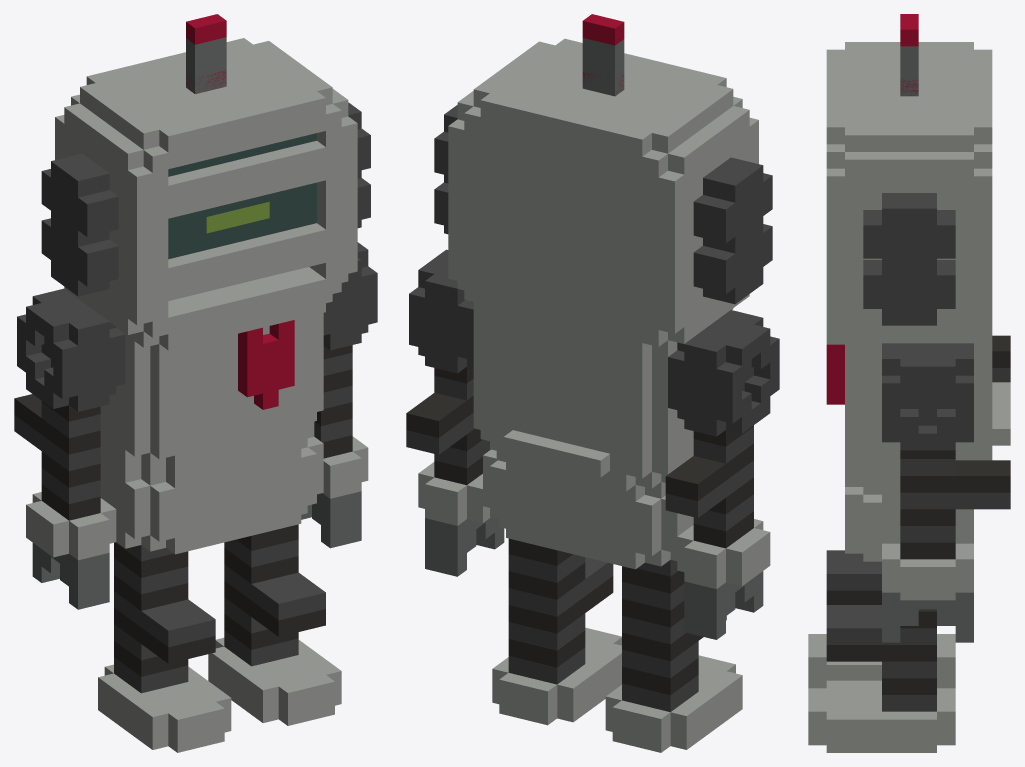
The model's file is player_main_idle.fbx.
The picture shows the model from 3 angles, left to right: view 1: azimuth 30°, elevation 25°; view 2: azimuth 150°, elevation 25°; view 3: azimuth 270°, elevation 25°; orthographic projection. The views are drawn at different scales.
Visible parts, largest first — view 1: model_2, model_4, model_5, model_0; view 2: model_2, model_5, model_4; view 3: model_2, model_5, model_4.
Part boxes in pixels (box(x1,y1,x2,y2)): model_2: box(17, 14, 377, 752); model_4: box(17, 15, 377, 720); model_5: box(14, 70, 370, 663); model_0: box(168, 133, 316, 259); model_2: box(409, 14, 779, 752); model_5: box(406, 72, 772, 640); model_4: box(426, 17, 770, 751); model_2: box(808, 14, 992, 752); model_5: box(826, 79, 1010, 661); model_4: box(826, 14, 992, 719).
Size of what is drawn, in the model's own units: 200 by 110 by 410.
